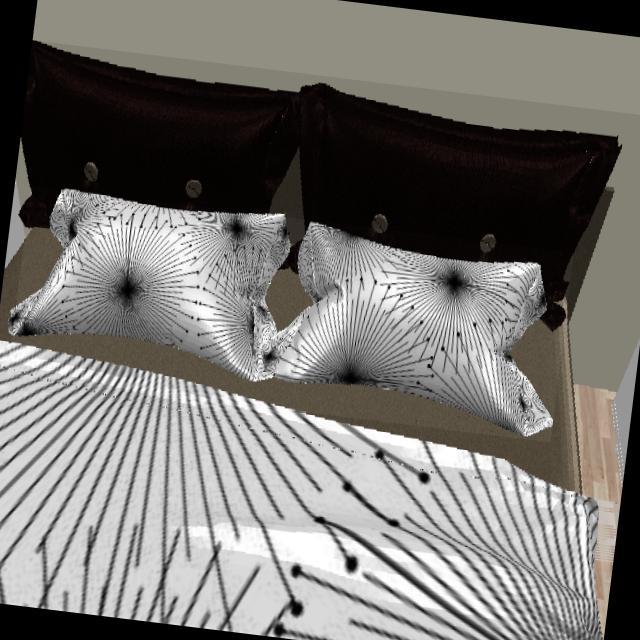bed: (0, 40, 621, 640)
pillow: (14, 199, 552, 439)
